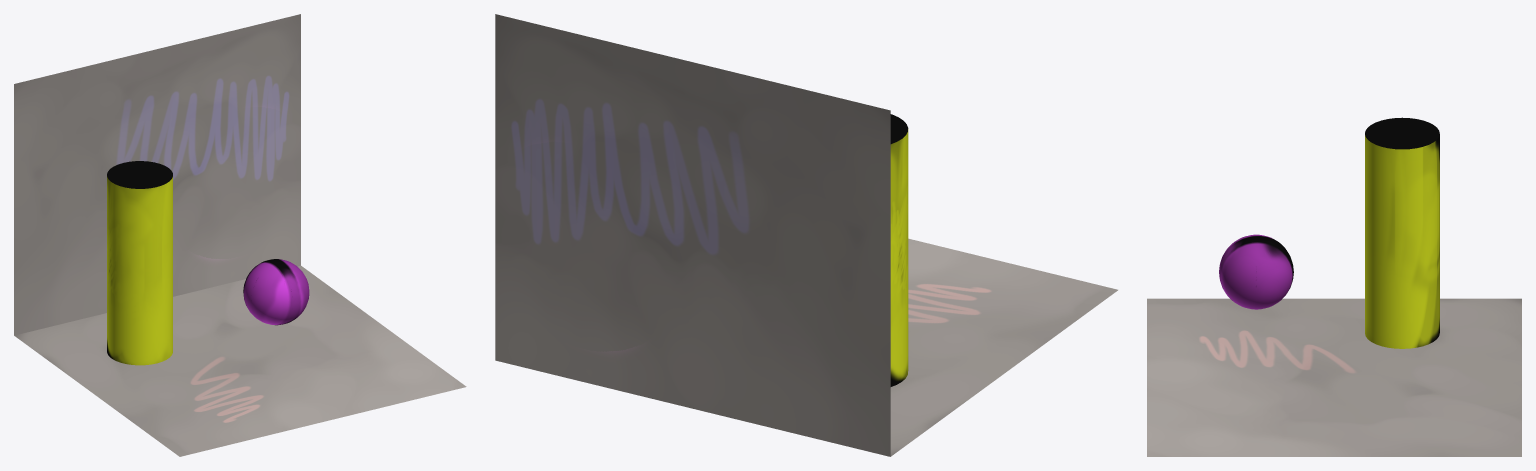
File: lightmap.fbx
3 renders of one model, left to right at view 1: azimuth 30°, elevation 25°; view 2: azimuth 150°, elevation 25°; view 3: azimuth 270°, elevation 25°, orthographic. The views are drawn at different scales.
Parts seen in each view (by area): view 1: static_objects; view 2: static_objects; view 3: static_objects.
Part boxes in pixels (bbox=[...]): static_objects: bbox=[14, 14, 466, 456]; static_objects: bbox=[495, 14, 1117, 456]; static_objects: bbox=[1147, 117, 1521, 456].
Size of the model in its own units: 10 by 8.38 by 10.
Materials: 1 (1 with a texture image).
